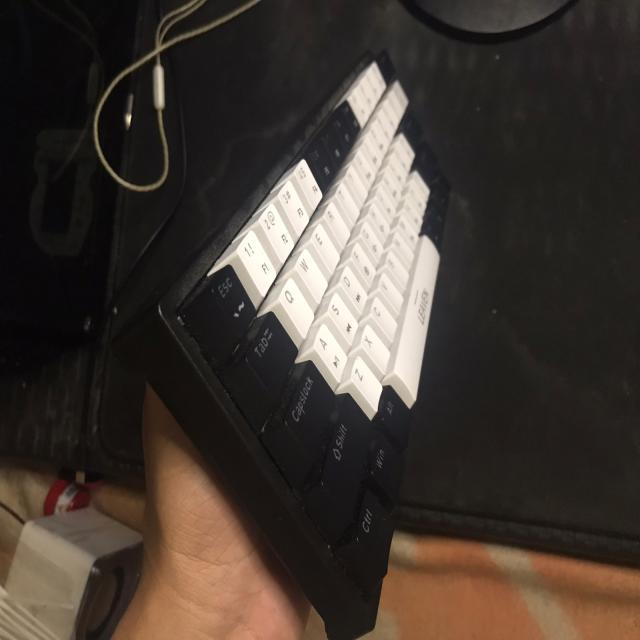-mouse-: (112, 37, 454, 632)
